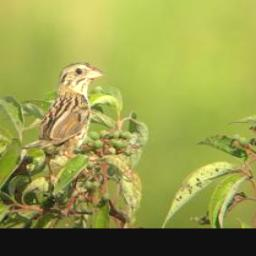Sparrow: (20, 59, 105, 186)
